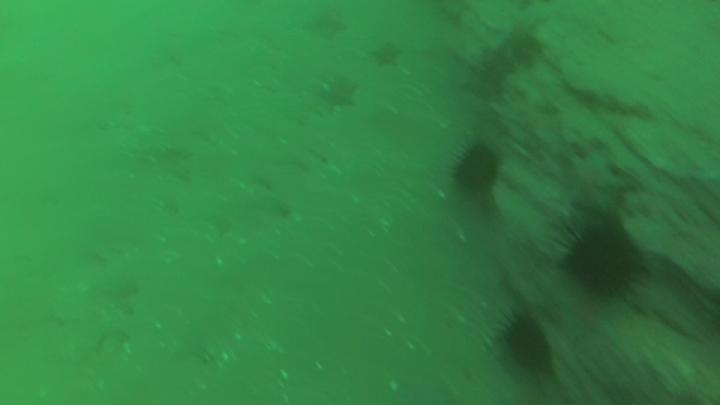echinus: (561, 214, 638, 296), (500, 312, 554, 380), (451, 140, 504, 198)
starfish: (562, 143, 643, 219), (554, 281, 626, 349), (478, 43, 518, 91), (320, 73, 361, 114), (371, 40, 405, 70)
